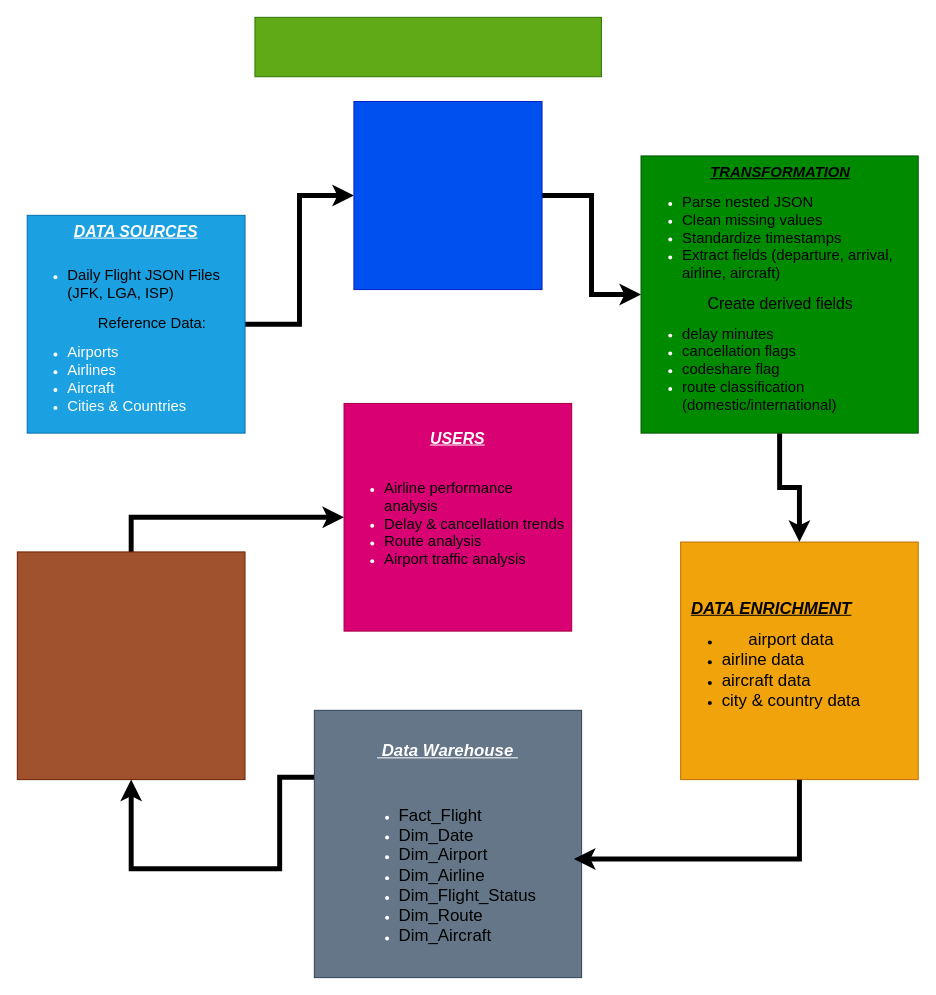
The diagram is 936 pixels wide and 995 high, and some of its shapes have lost their labels. Here are the shapes that lost their labels. From the top down, the box of each, then its label:
(254, 16, 601, 77): PRODUCT ARCHITECTURE
(353, 100, 542, 290): INGESTION Google Cloud Storage (GCS) Batch ingestion (JSON + CSV)
(16, 551, 245, 780): Analytics & BI SQL queries Tableau / Power BI Python visualizations
